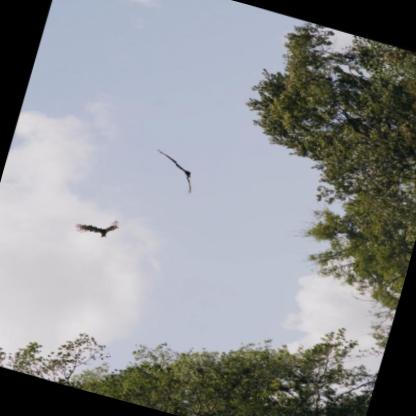bird: (144, 147, 204, 197), (71, 205, 124, 245)
